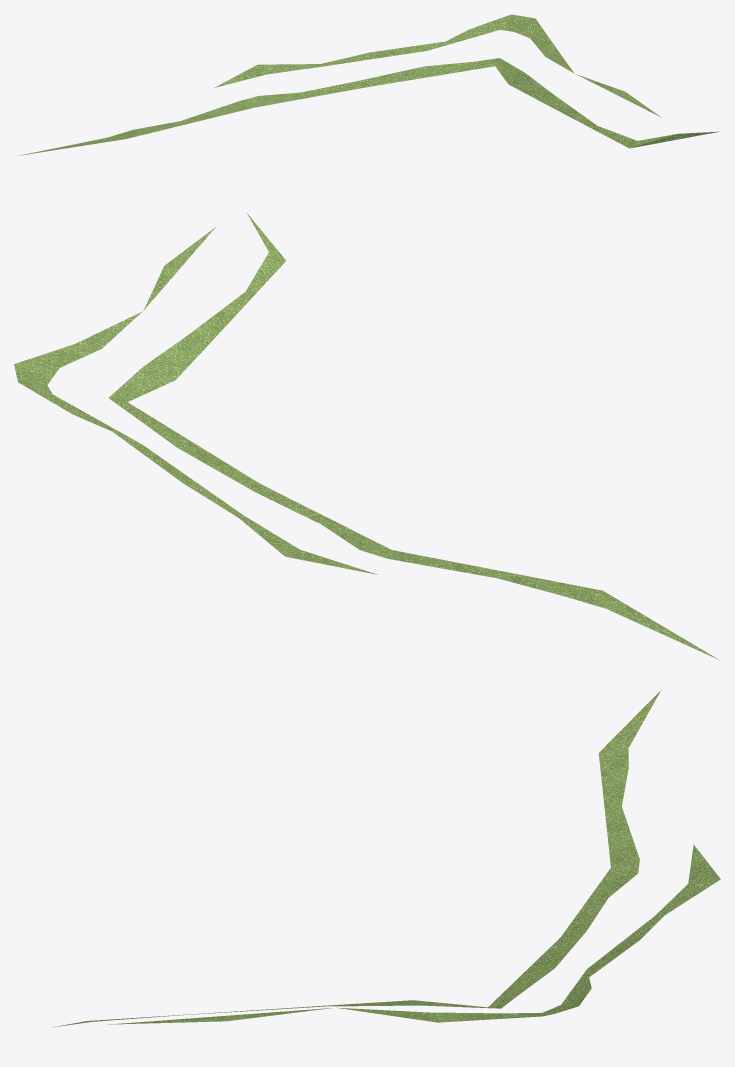
Rendered from kd_stage_13612f_3_33_bounded.glb.
3 views of the same model, one above another, from view 1: azimuth 30°, elevation 25°; view 2: azimuth 150°, elevation 25°; view 3: azimuth 270°, elevation 25° (orthographic). The views are drawn at different scales.
Parts seen in each view (by area): view 1: kd_stage_13612f_3_33_bounded; view 2: kd_stage_13612f_3_33_bounded; view 3: kd_stage_13612f_3_33_bounded.
Boxes of the visible parts, x1=… form: kd_stage_13612f_3_33_bounded: x1=16, y1=14, x2=719, y2=156; kd_stage_13612f_3_33_bounded: x1=14, y1=212, x2=718, y2=659; kd_stage_13612f_3_33_bounded: x1=51, y1=689, x2=720, y2=1027.
Bounding box in the file's own units: 10.46 × 0.8719 × 7.29.
1 material, 1 textured.
